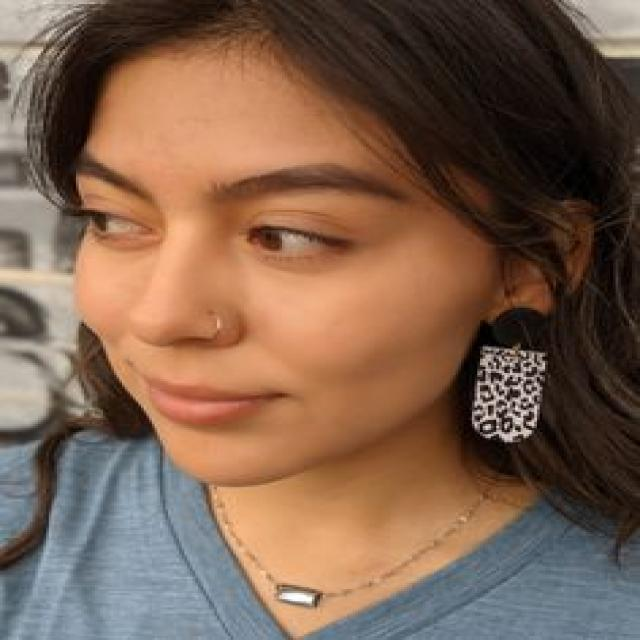Earring: (463, 288, 558, 456)
